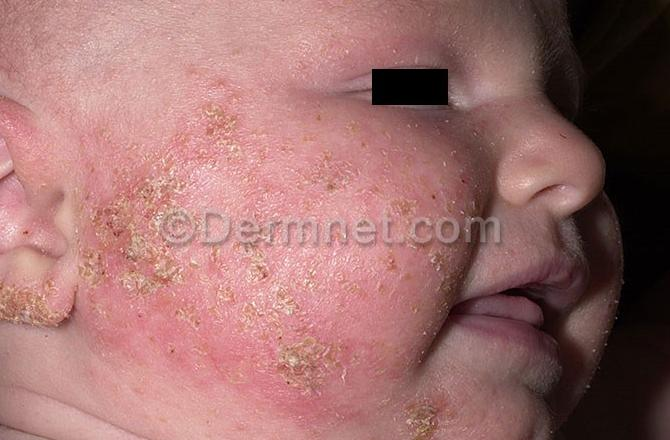Eritema 2: (53, 84, 489, 404)
exudacion 3: (0, 82, 489, 440)
